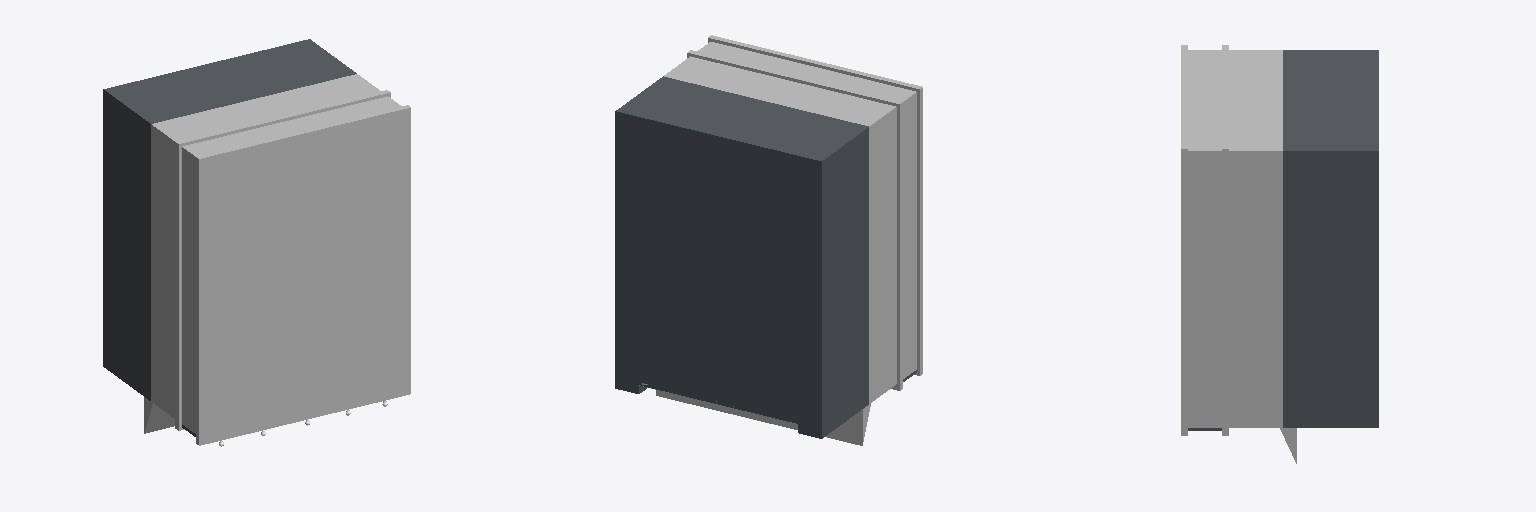
The model's file is tinker 20.obj.
3 views of the same model, side by side, from view 1: azimuth 30°, elevation 25°; view 2: azimuth 150°, elevation 25°; view 3: azimuth 270°, elevation 25° (orthographic).
Parts seen in each view (by area): view 1: obj_6, obj_2, obj_4, obj_5, obj_7, obj_0, obj_1; view 2: obj_5, obj_2, obj_4, obj_0, obj_7, obj_6, obj_1; view 3: obj_2, obj_0, obj_5, obj_6, obj_7, obj_4.
Boxes of the visible parts, x1,y1,x2,y2 form: obj_6: [196, 105, 410, 445]; obj_2: [151, 74, 400, 433]; obj_4: [103, 84, 172, 400]; obj_5: [117, 40, 337, 118]; obj_7: [175, 90, 390, 430]; obj_0: [287, 39, 356, 78]; obj_1: [144, 397, 174, 433]; obj_5: [621, 82, 851, 428]; obj_2: [664, 42, 916, 403]; obj_4: [798, 121, 868, 438]; obj_0: [615, 76, 685, 393]; obj_7: [687, 50, 902, 390]; obj_6: [708, 35, 922, 375]; obj_1: [656, 390, 870, 445]; obj_2: [1188, 50, 1282, 427]; obj_0: [1283, 139, 1378, 427]; obj_5: [1283, 52, 1378, 147]; obj_6: [1181, 45, 1187, 435]; obj_7: [1222, 45, 1228, 435]; obj_4: [1283, 50, 1378, 60].
Bounding box in the file's own units: 72 × 103 × 58.